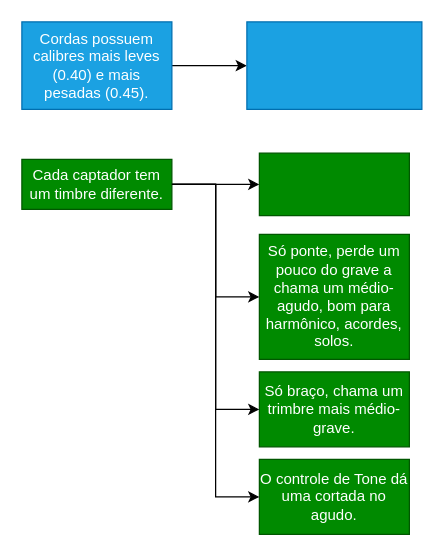
The diagram is 444 pixels wide and 556 high, and some of its shapes have lost their labels. Here are the shapes that lost their labels. From the top down, the centre of each, then its label:
the point at 334,65: Depende do toque, da mão, da forma como gosta de tocar o instrumento.
the point at 333,184: Os dois abertos, dá um som mais equilibrado.
